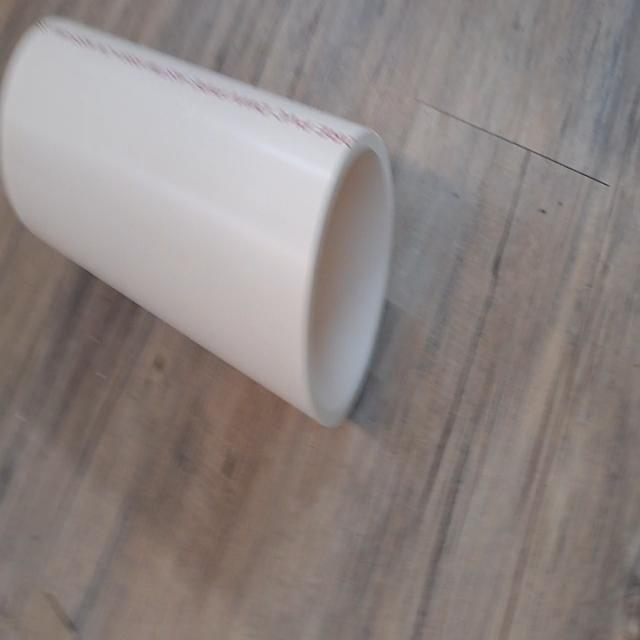CORAL: (0, 0, 405, 423)
